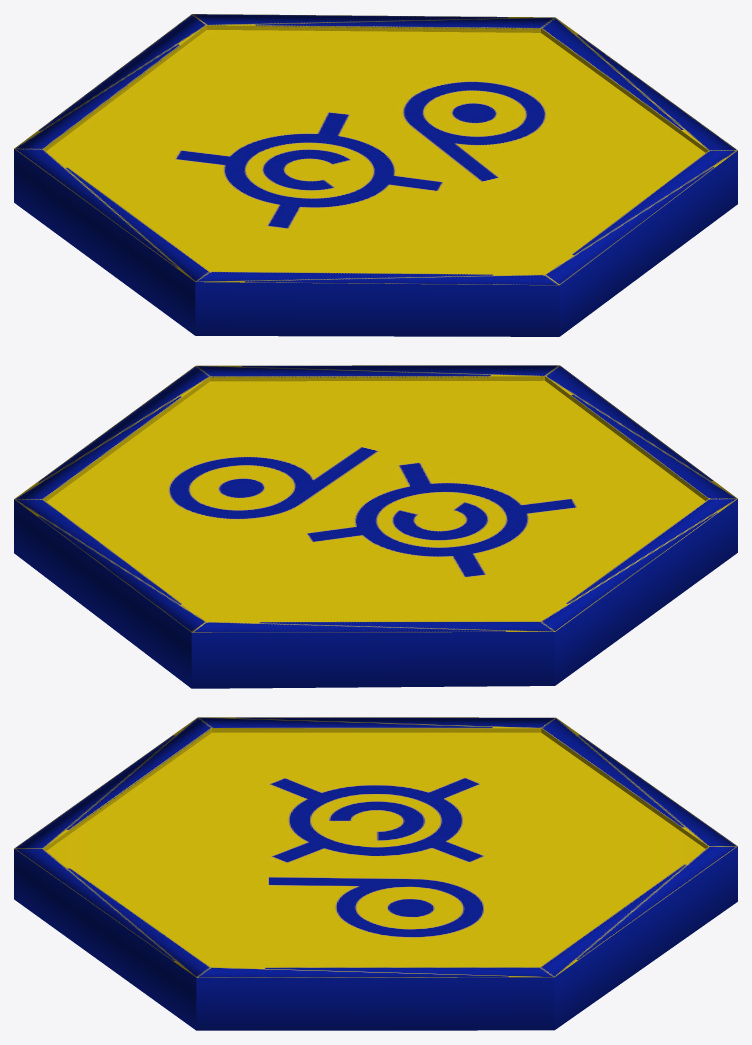
File: experience.fbx
The picture shows the model from 3 angles, top to bottom: view 1: azimuth 30°, elevation 25°; view 2: azimuth 150°, elevation 25°; view 3: azimuth 270°, elevation 25°; orthographic projection.
Visible parts, largest first — view 1: polySurface2; view 2: polySurface2; view 3: polySurface2.
Boxes of the visible parts, x1,y1,x2,y2 form: polySurface2: [14, 14, 737, 336]; polySurface2: [14, 365, 737, 688]; polySurface2: [14, 717, 737, 1030].
Size of the model in its own units: 10.12 by 1 by 11.89.
